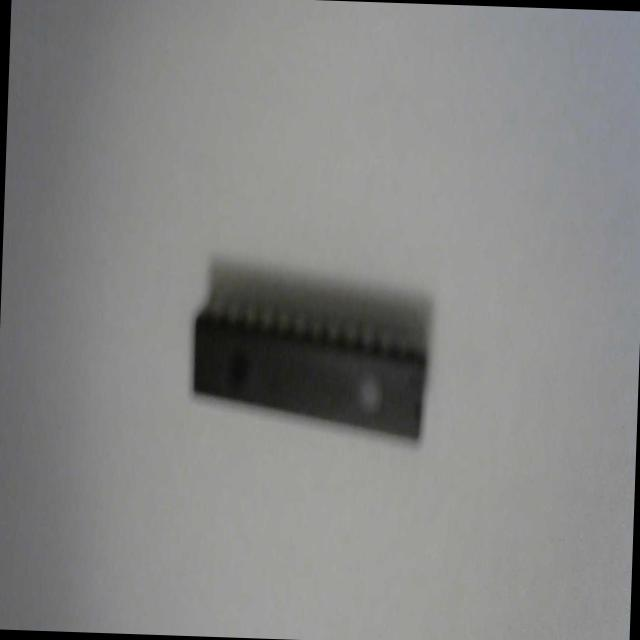atmega: (188, 254, 438, 448)
